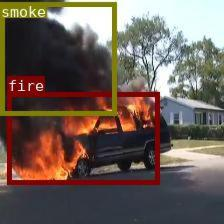fire: (6, 91, 159, 183)
smoke: (0, 2, 115, 114)
